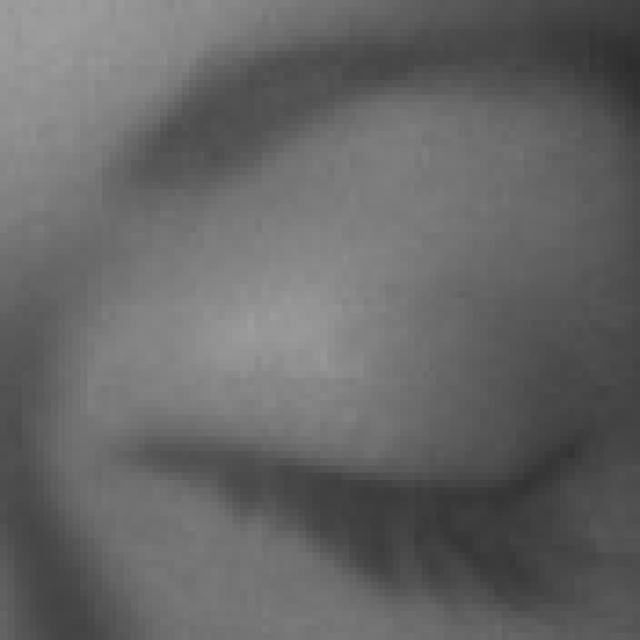Eyeclosed: (148, 243, 602, 640)
